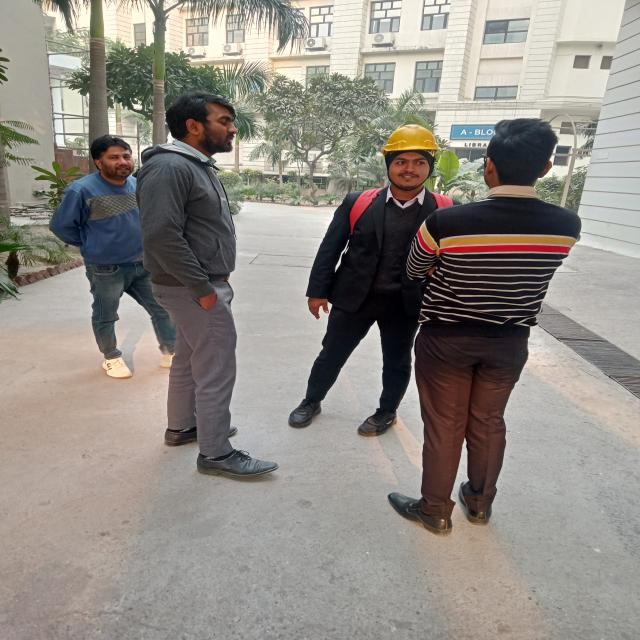no jacket: (311, 119, 444, 434)
unsafe: (415, 112, 567, 536), (132, 92, 288, 486), (46, 134, 169, 377)
